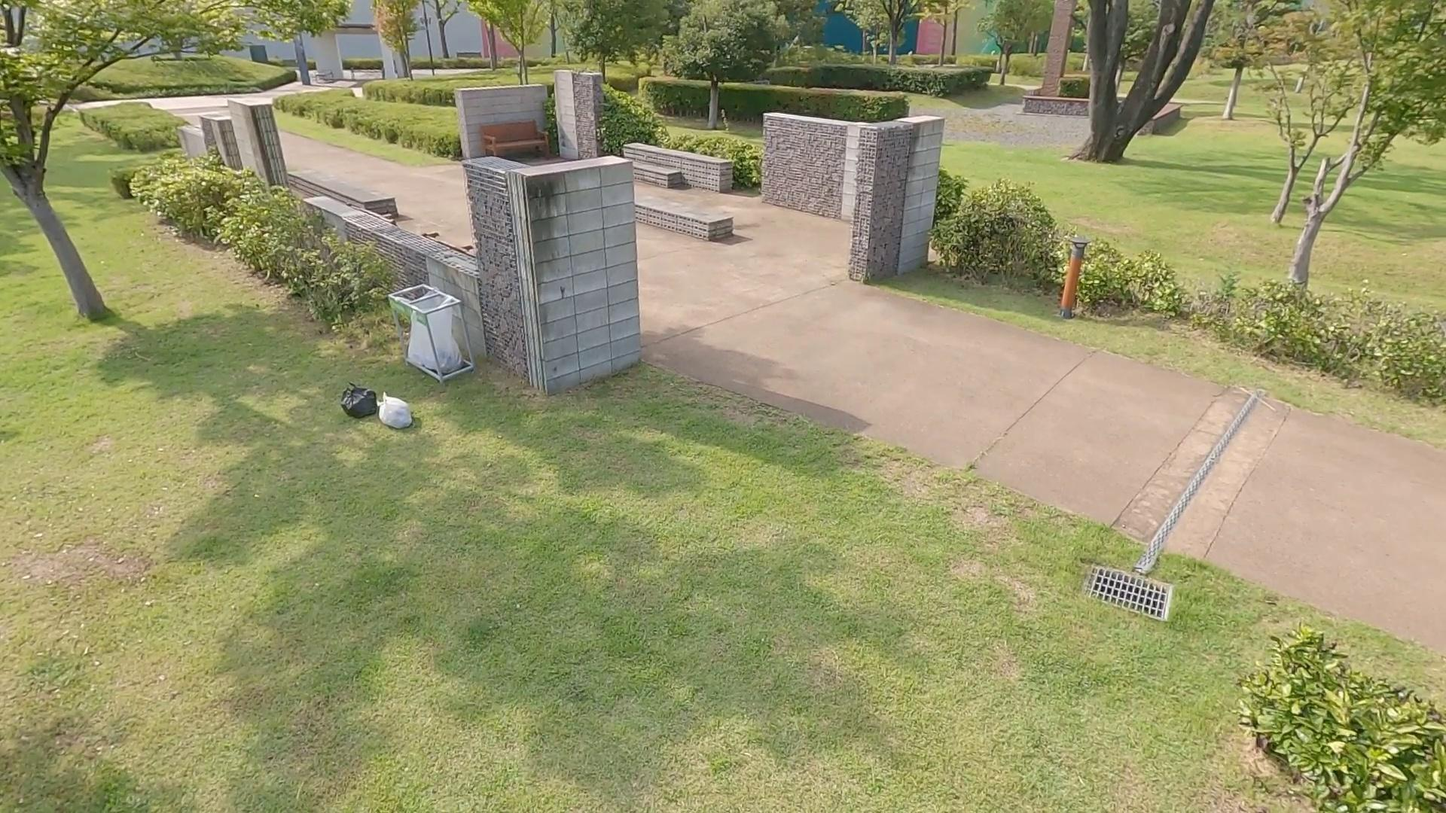trash: (376, 391, 417, 431), (340, 380, 381, 418)
